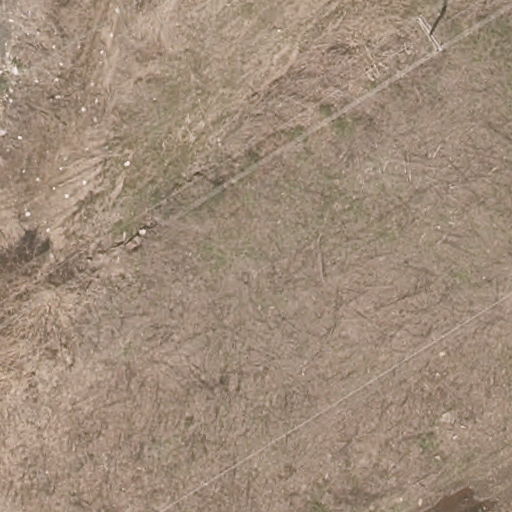DT: (415, 15, 447, 53)
